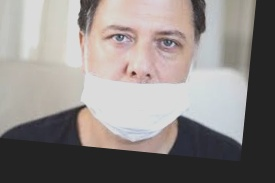mask_weared_incorrect: (76, 1, 196, 149)
